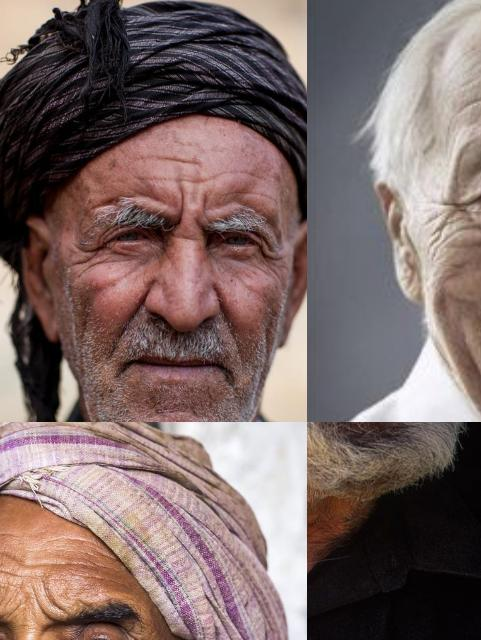crows_feet: (428, 187, 472, 231), (70, 235, 106, 272), (256, 239, 286, 281), (130, 628, 157, 640)
forehead: (26, 553, 90, 581), (158, 165, 216, 193), (157, 146, 205, 172), (48, 526, 96, 550), (89, 184, 129, 212), (229, 182, 273, 204), (451, 89, 481, 115), (0, 552, 21, 587), (0, 523, 18, 542)
frown_line: (34, 586, 64, 618), (168, 195, 192, 228), (198, 190, 214, 228), (0, 591, 20, 621)
gummy_smile: (208, 297, 244, 341), (117, 290, 147, 342)
masseter: (462, 334, 481, 413)
